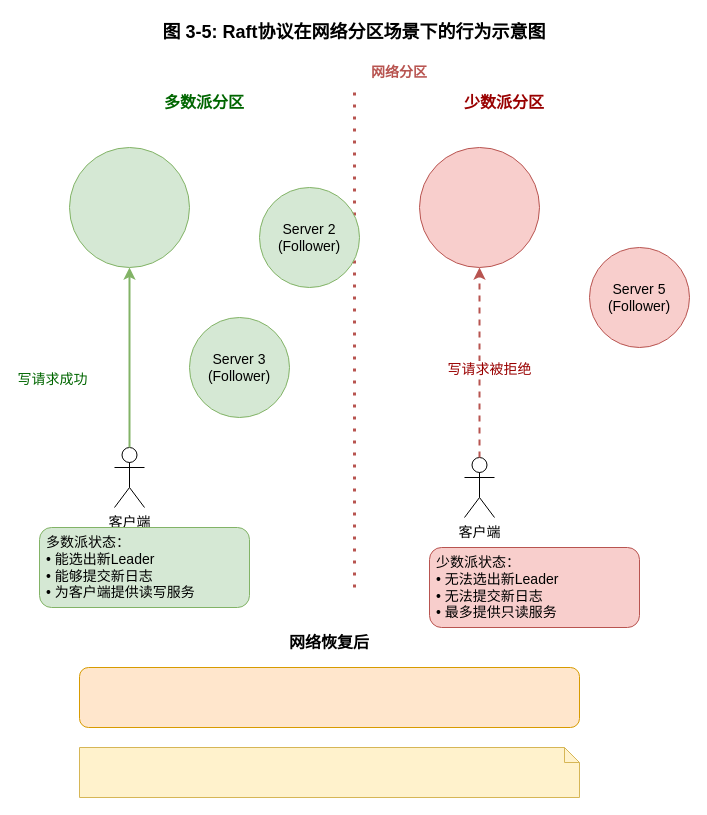
The diagram is 707 pixels wide and 815 high, and some of its shapes have lost their labels. The shapes that lost their labels are listed below. From the top down, each one's centre as x and y in pixels, then its label:
At point 129,207: "Server 1 (新选出的Leader)".
At point 479,207: "Server 4 (原Leader, 变为Follower)".
At point 329,697: "网络恢复后，少数派节点将与多数派Leader同步状态， 少数派中原Leader降级为Follower并接受新Leader的日志复制".
At point 329,772: "分区发生时可能出现脑裂风险，但Raft协议通过多数派确认机制确保安全性".
